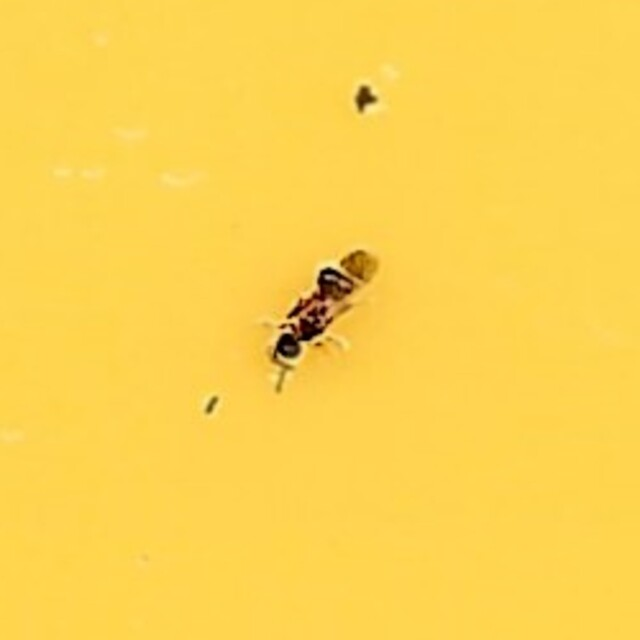Hymenoptera: (256, 245, 384, 395)
